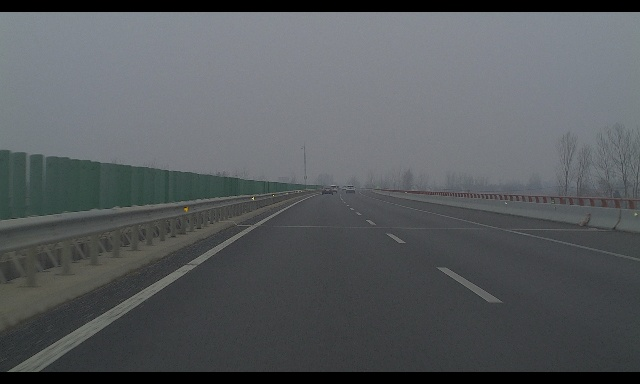car: (322, 186, 334, 195), (346, 185, 356, 193), (329, 185, 338, 193), (342, 186, 347, 191)
